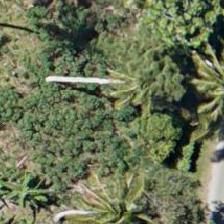coconut_tree: (98, 36, 188, 126), (72, 164, 162, 223), (177, 36, 223, 126)
